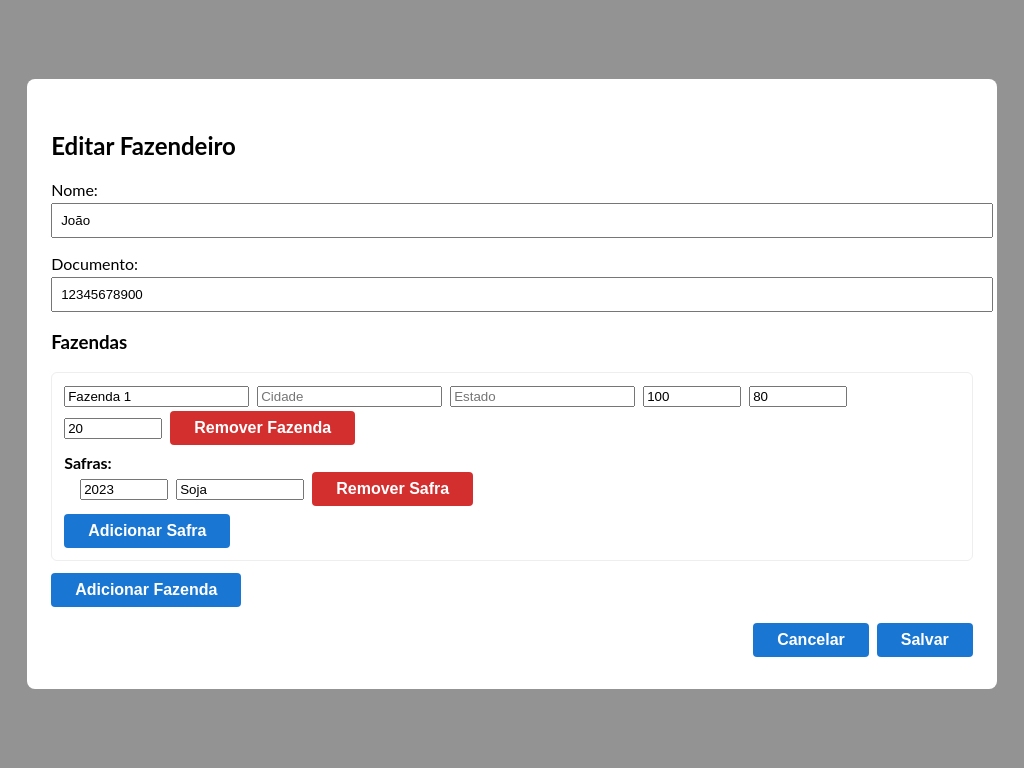
Test: EditFarmerModal › adds a new farm
Step 1. Click the button "Adicionar Fazenda" → x=146, y=590, box [51,573,242,607]
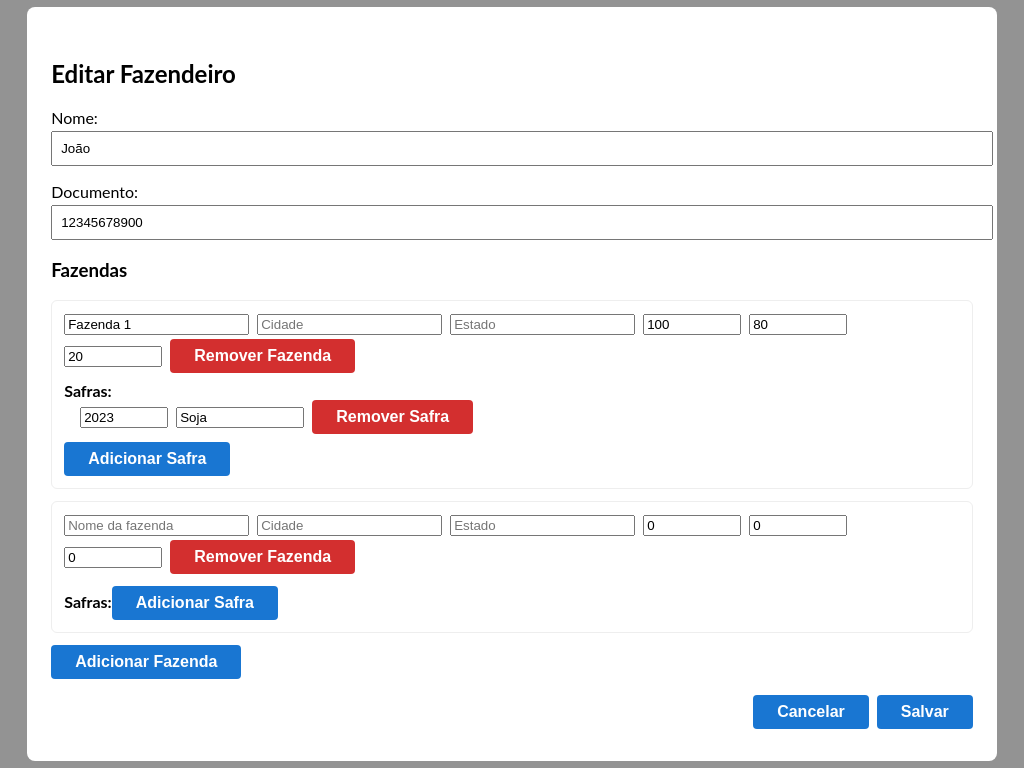
Result: the number of fields with placeholder "Nome da fazenda" is 2 at [64,314,249,335]; [64,515,249,536]
